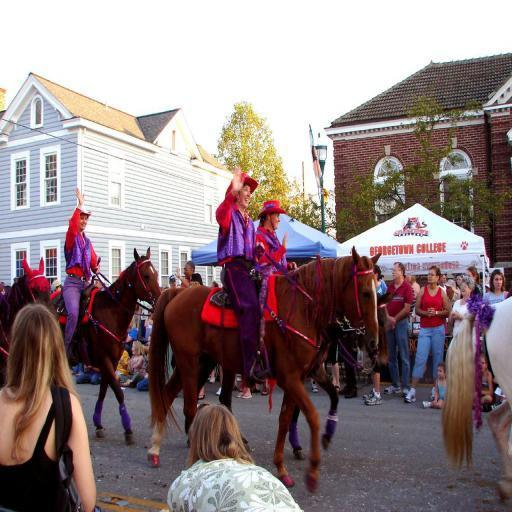horse: (146, 243, 382, 496), (220, 288, 391, 462), (50, 246, 163, 448), (436, 295, 511, 507), (0, 255, 57, 388)
